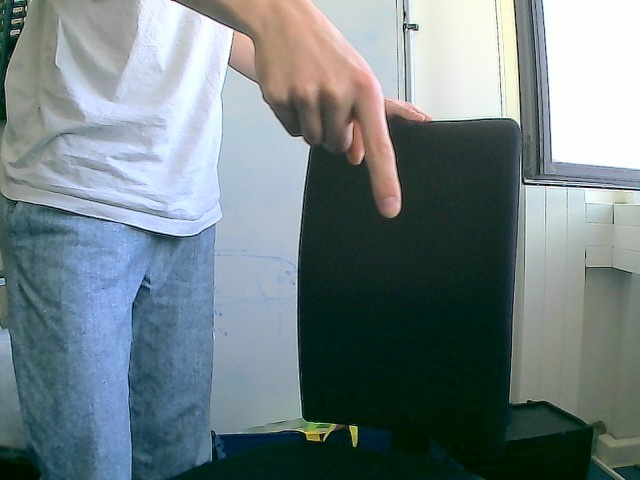down: (250, 3, 404, 220)
